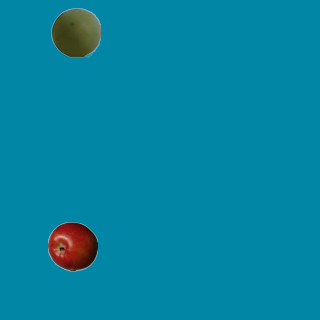Apple Braeburn: (47, 221, 97, 271)
Grape White 4: (50, 7, 100, 57)
